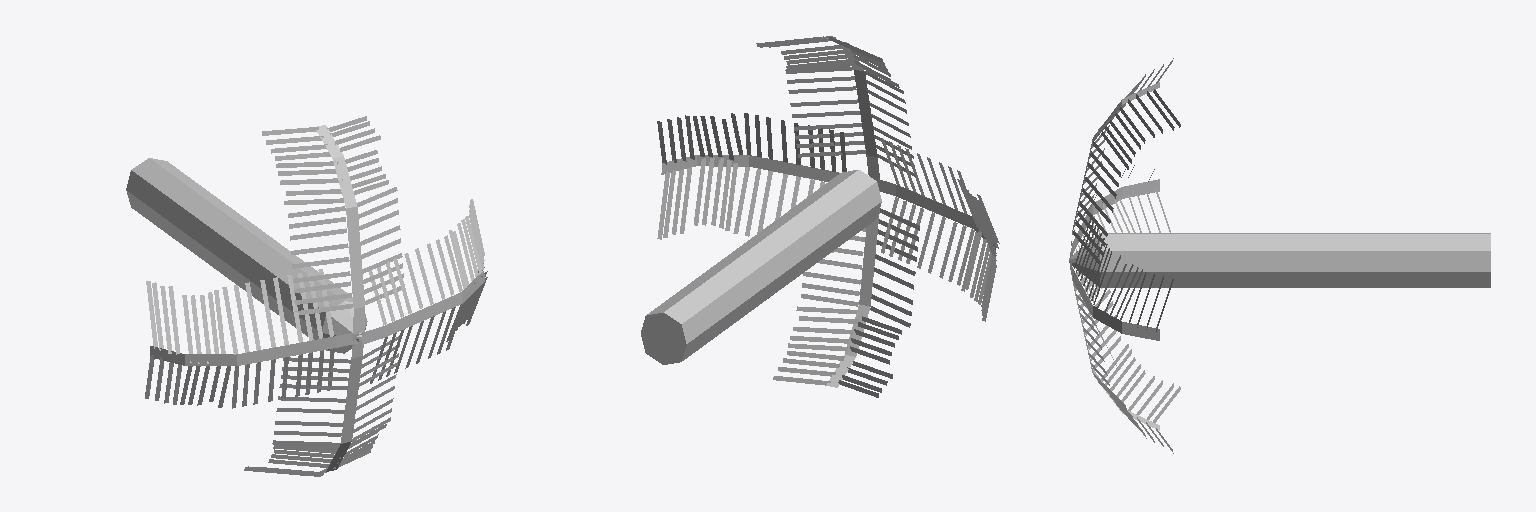
Rendered from tree.obj.
3 views of the same model, side by side, from view 1: azimuth 30°, elevation 25°; view 2: azimuth 150°, elevation 25°; view 3: azimuth 270°, elevation 25° (orthographic).
Visible parts, largest first — view 1: Cube, Plane.003_Plane.050, Plane.001_Plane.048, Plane.000_Plane.047, Plane.002_Plane.049; view 2: Cube, Plane.002_Plane.049, Plane.000_Plane.047, Plane.001_Plane.048, Plane.003_Plane.050; view 3: Cube, Plane.001_Plane.048, Plane.000_Plane.047, Plane.002_Plane.049, Plane.003_Plane.050.
Boxes of the visible parts, x1,y1,x2,y2 form: Cube: [126, 158, 367, 353]; Plane.003_Plane.050: [145, 269, 359, 408]; Plane.001_Plane.048: [262, 116, 404, 333]; Plane.000_Plane.047: [244, 333, 399, 476]; Plane.002_Plane.049: [362, 199, 487, 383]; Cube: [641, 170, 881, 364]; Plane.002_Plane.049: [657, 113, 846, 252]; Plane.000_Plane.047: [773, 189, 919, 397]; Plane.001_Plane.048: [756, 36, 916, 179]; Plane.003_Plane.050: [875, 138, 999, 321]; Cube: [1069, 233, 1490, 287]; Plane.001_Plane.048: [1070, 58, 1180, 266]; Plane.000_Plane.047: [1070, 258, 1180, 453]; Plane.002_Plane.049: [1070, 218, 1173, 369]; Plane.003_Plane.050: [1070, 165, 1170, 302].
Bounding box in the file's own units: 1.03 × 1.03 × 1.13.